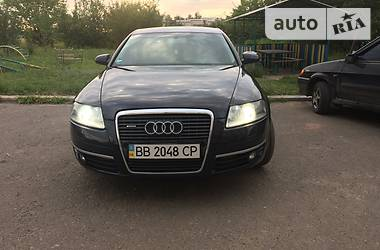car: (68, 26, 275, 183)
plate: (127, 142, 201, 157)
